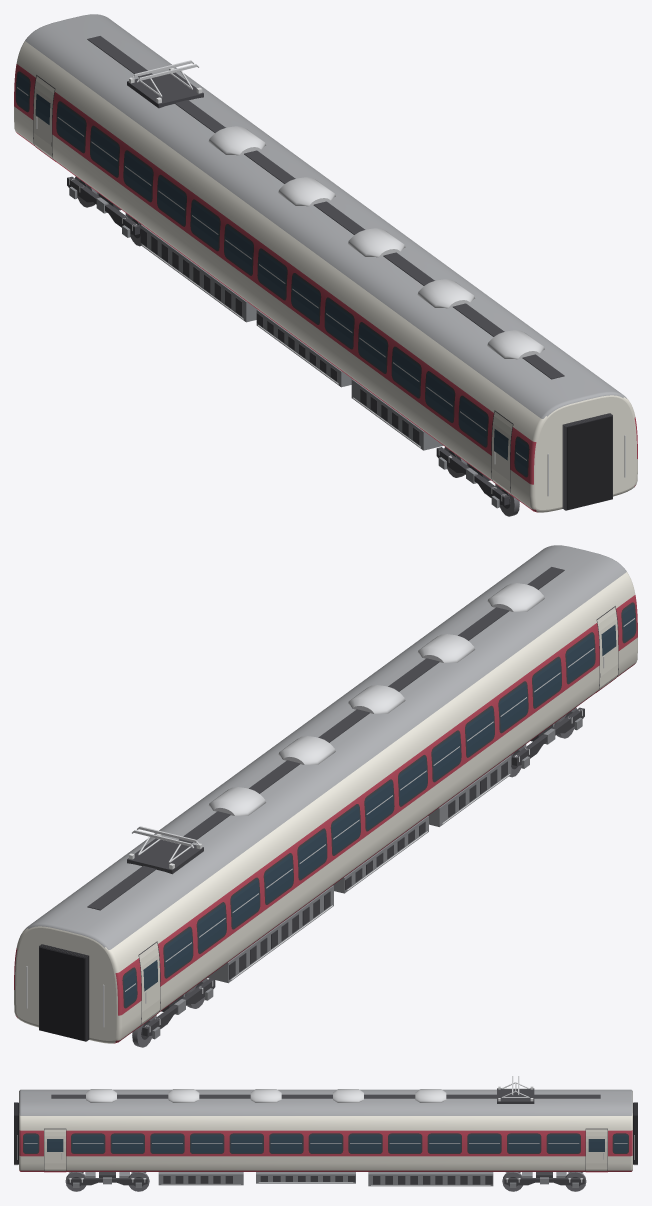
File: middle_2_close.fbx
3 views of the same model, one above another, from view 1: azimuth 30°, elevation 25°; view 2: azimuth 150°, elevation 25°; view 3: azimuth 270°, elevation 25° (orthographic). The views are drawn at different scales.
Visible parts, largest first — view 1: 21_middle_2_close; view 2: 21_middle_2_close; view 3: 21_middle_2_close.
Part boxes in pixels (x1=…): 21_middle_2_close: x1=14, y1=14, x2=637, y2=516; 21_middle_2_close: x1=14, y1=545, x2=637, y2=1047; 21_middle_2_close: x1=14, y1=1076, x2=637, y2=1191.
Size of the model in its own units: 3 by 4.35 by 25.
